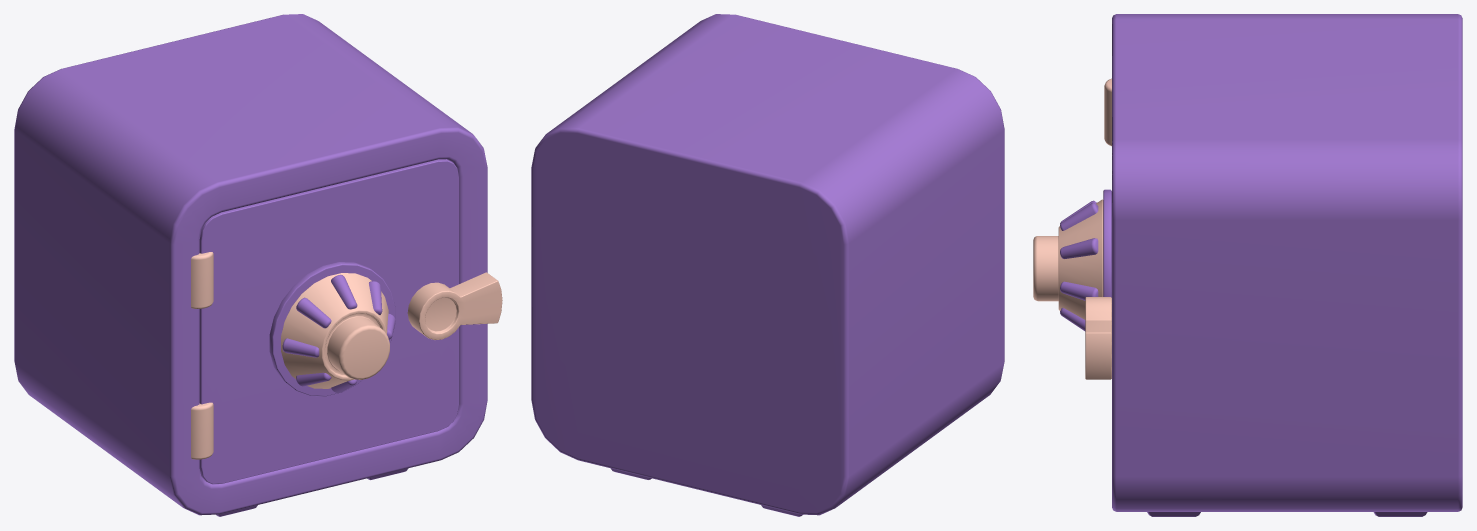
File: Public_1_Safe_1.glb
The picture shows the model from 3 angles, left to right: view 1: azimuth 30°, elevation 25°; view 2: azimuth 150°, elevation 25°; view 3: azimuth 270°, elevation 25°; orthographic projection. The views are drawn at different scales.
Visible parts, largest first — view 1: Public_1_Safe_1; view 2: Public_1_Safe_1; view 3: Public_1_Safe_1.
Boxes of the visible parts, bbox=[...] form: Public_1_Safe_1: bbox=[14, 14, 502, 516]; Public_1_Safe_1: bbox=[531, 14, 1004, 516]; Public_1_Safe_1: bbox=[1033, 14, 1462, 516].
Bounding box in the file's own units: 2.22 × 2.34 × 2.34.
1 material, 1 textured.
